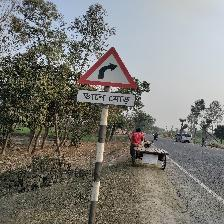Right-turn: (76, 46, 138, 108)
